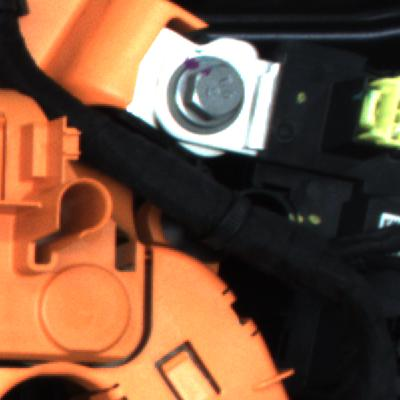nut_b: (169, 58, 272, 146)
